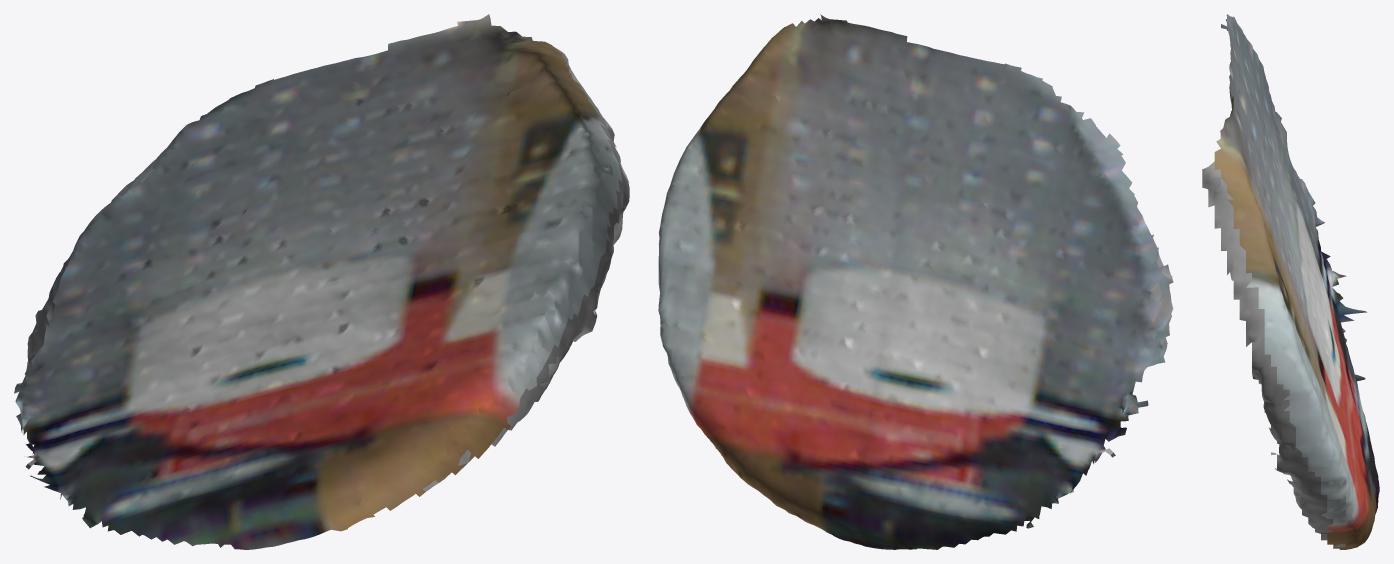
The model's file is textured_mesh_cropped.obj.
3 renders of one model, left to right at view 1: azimuth 30°, elevation 25°; view 2: azimuth 150°, elevation 25°; view 3: azimuth 270°, elevation 25°, orthographic. The views are drawn at different scales.
Size of the model in its own units: 0.1809 by 0.1603 by 0.0555.
